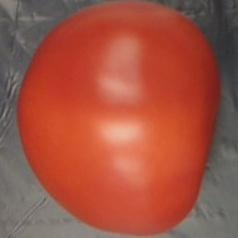unripe: (16, 1, 223, 238)
